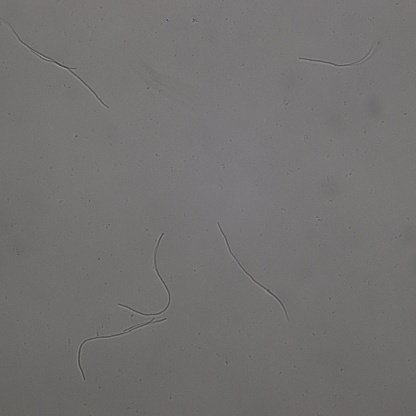Sensitive: (218, 222, 289, 319), (76, 319, 165, 381), (118, 232, 171, 316), (33, 52, 110, 107), (1, 18, 78, 69), (299, 37, 380, 68)
